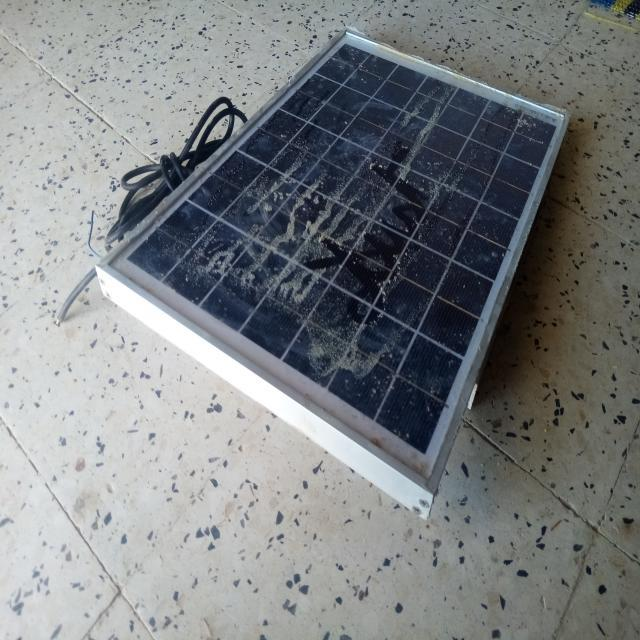faulty: (100, 27, 571, 498)
